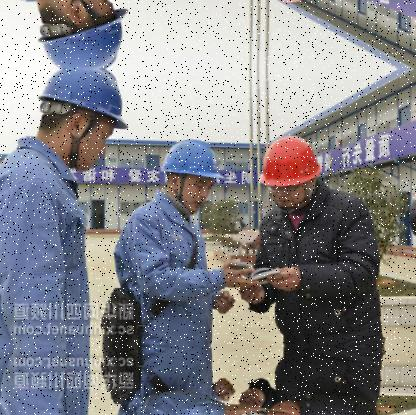helmet: (27, 68, 135, 172), (26, 0, 135, 69), (255, 127, 328, 213), (155, 132, 229, 212)
